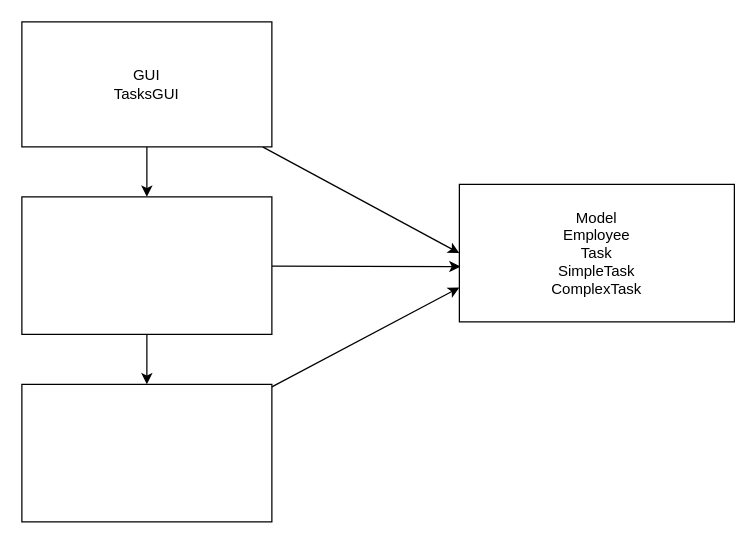
The diagram is 756 pixels wide and 544 high, and some of its shapes have lost their labels. The centre of each missing label's shape, as x and y in pixels:
"Business Logic TasksManagement Utility" goes at point 146,265.
"Data SerializationOperations" goes at point 146,452.
